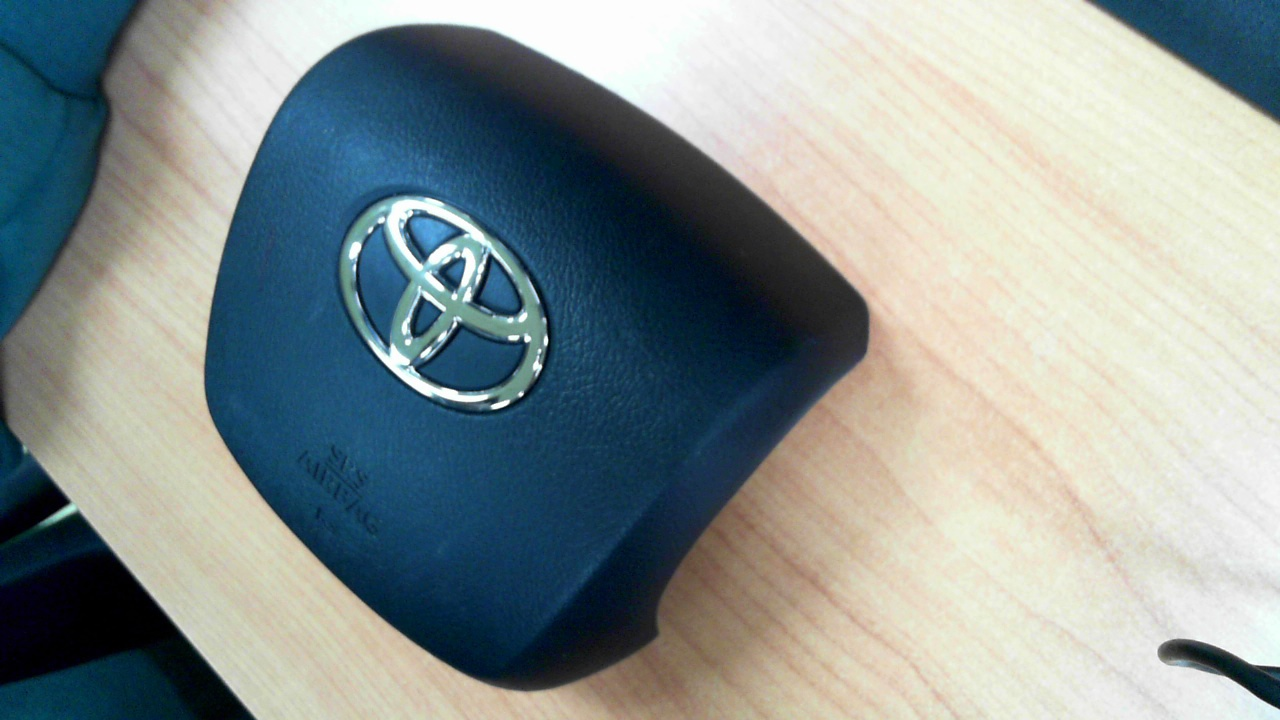Airbag: (203, 22, 870, 691)
Toyota: (339, 195, 550, 416)
